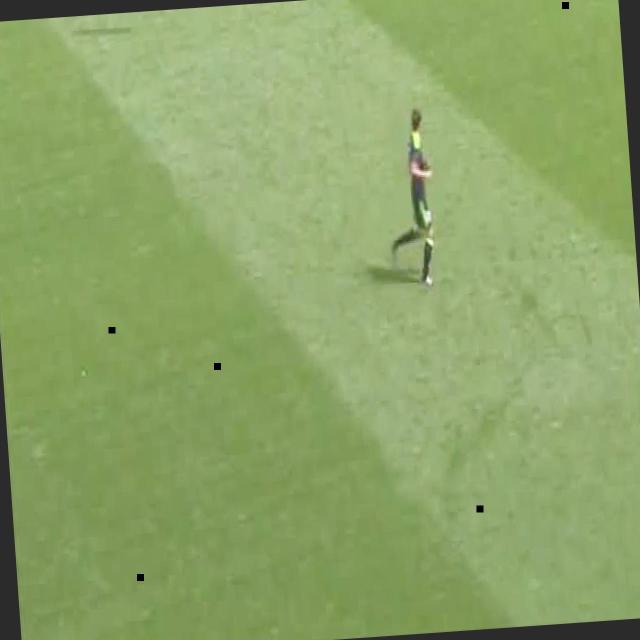player-white: (382, 108, 440, 294)
